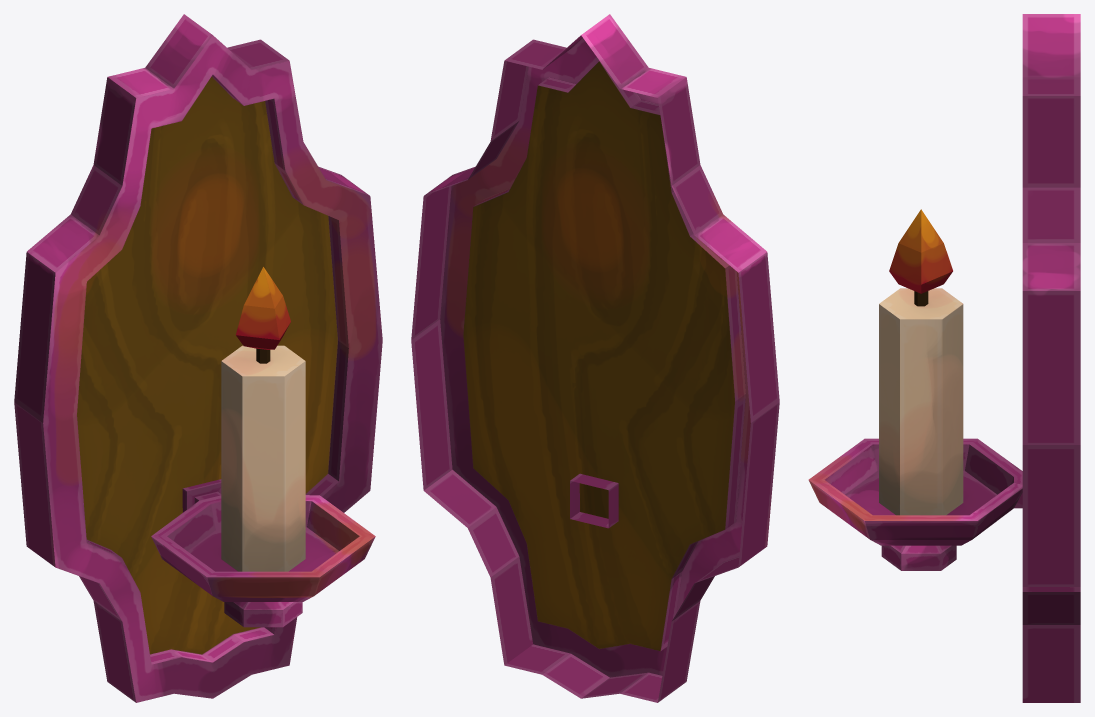
The model's file is Light.fbx.
3 views of the same model, side by side, from view 1: azimuth 30°, elevation 25°; view 2: azimuth 150°, elevation 25°; view 3: azimuth 270°, elevation 25° (orthographic).
Visible parts, largest first — view 1: Cylinder.002; view 2: Cylinder.002; view 3: Cylinder.002.
Boxes of the visible parts, left/top/right/bottom form: Cylinder.002: left=14, top=14, right=382, bottom=702; Cylinder.002: left=411, top=14, right=779, bottom=702; Cylinder.002: left=808, top=14, right=1080, bottom=702.
Bounding box in the file's own units: 114 × 214 × 79.09.
